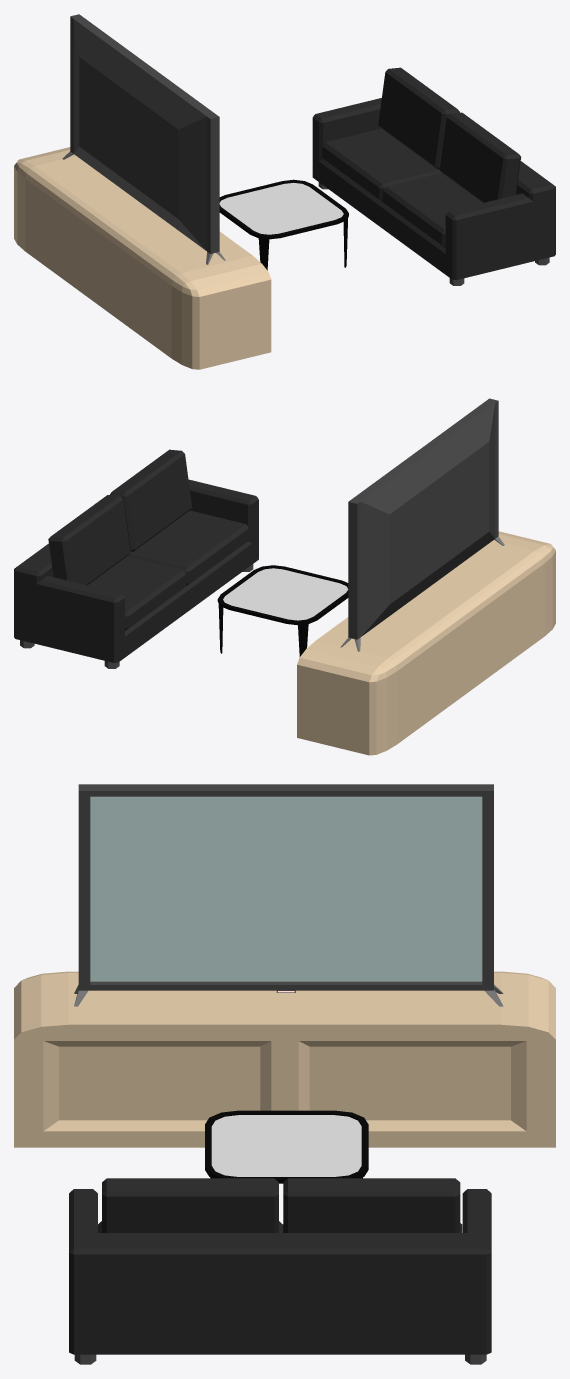
Rendered from livingRoom.fbx.
The picture shows the model from 3 angles, top to bottom: view 1: azimuth 30°, elevation 25°; view 2: azimuth 150°, elevation 25°; view 3: azimuth 270°, elevation 25°; orthographic projection. The views are drawn at different scales.
Parts seen in each view (by area): view 1: Sofa, Cube, Cube.010, Cube.012; view 2: Sofa, Cube, Cube.010, Cube.012; view 3: Cube.010, Cube, Sofa, Cube.012.
Part boxes in pixels (left/top/right/bottom): Sofa: left=312, top=67, right=555, bottom=285; Cube: left=14, top=147, right=271, bottom=369; Cube.010: left=62, top=14, right=225, bottom=264; Cube.012: left=219, top=179, right=348, bottom=270; Sofa: left=14, top=449, right=258, bottom=668; Cube: left=297, top=531, right=555, bottom=755; Cube.010: left=340, top=398, right=504, bottom=651; Cube.012: left=217, top=565, right=348, bottom=656; Cube.010: left=74, top=784, right=503, bottom=1006; Cube: left=14, top=971, right=555, bottom=1147; Sofa: left=69, top=1178, right=491, bottom=1364; Cube.012: left=205, top=1110, right=368, bottom=1183.
Bounding box in the file's own units: 504 × 283 × 414.
